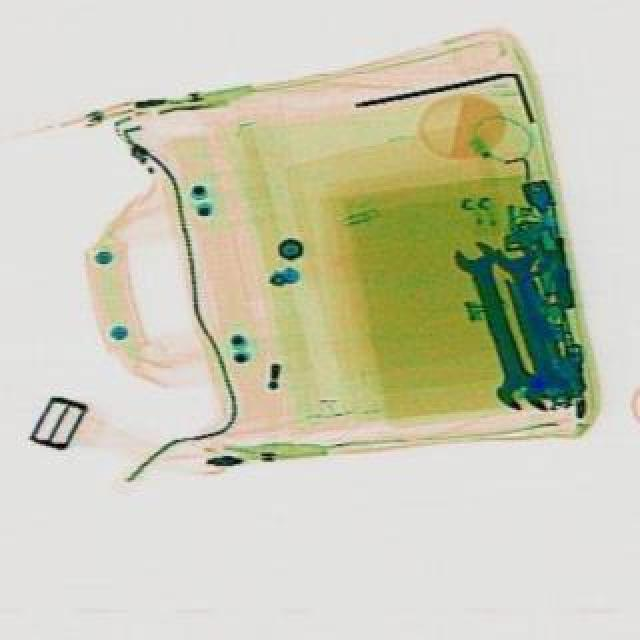scissors: (444, 236, 546, 412), (488, 238, 572, 412)
